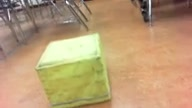cube: (34, 32, 112, 108)
